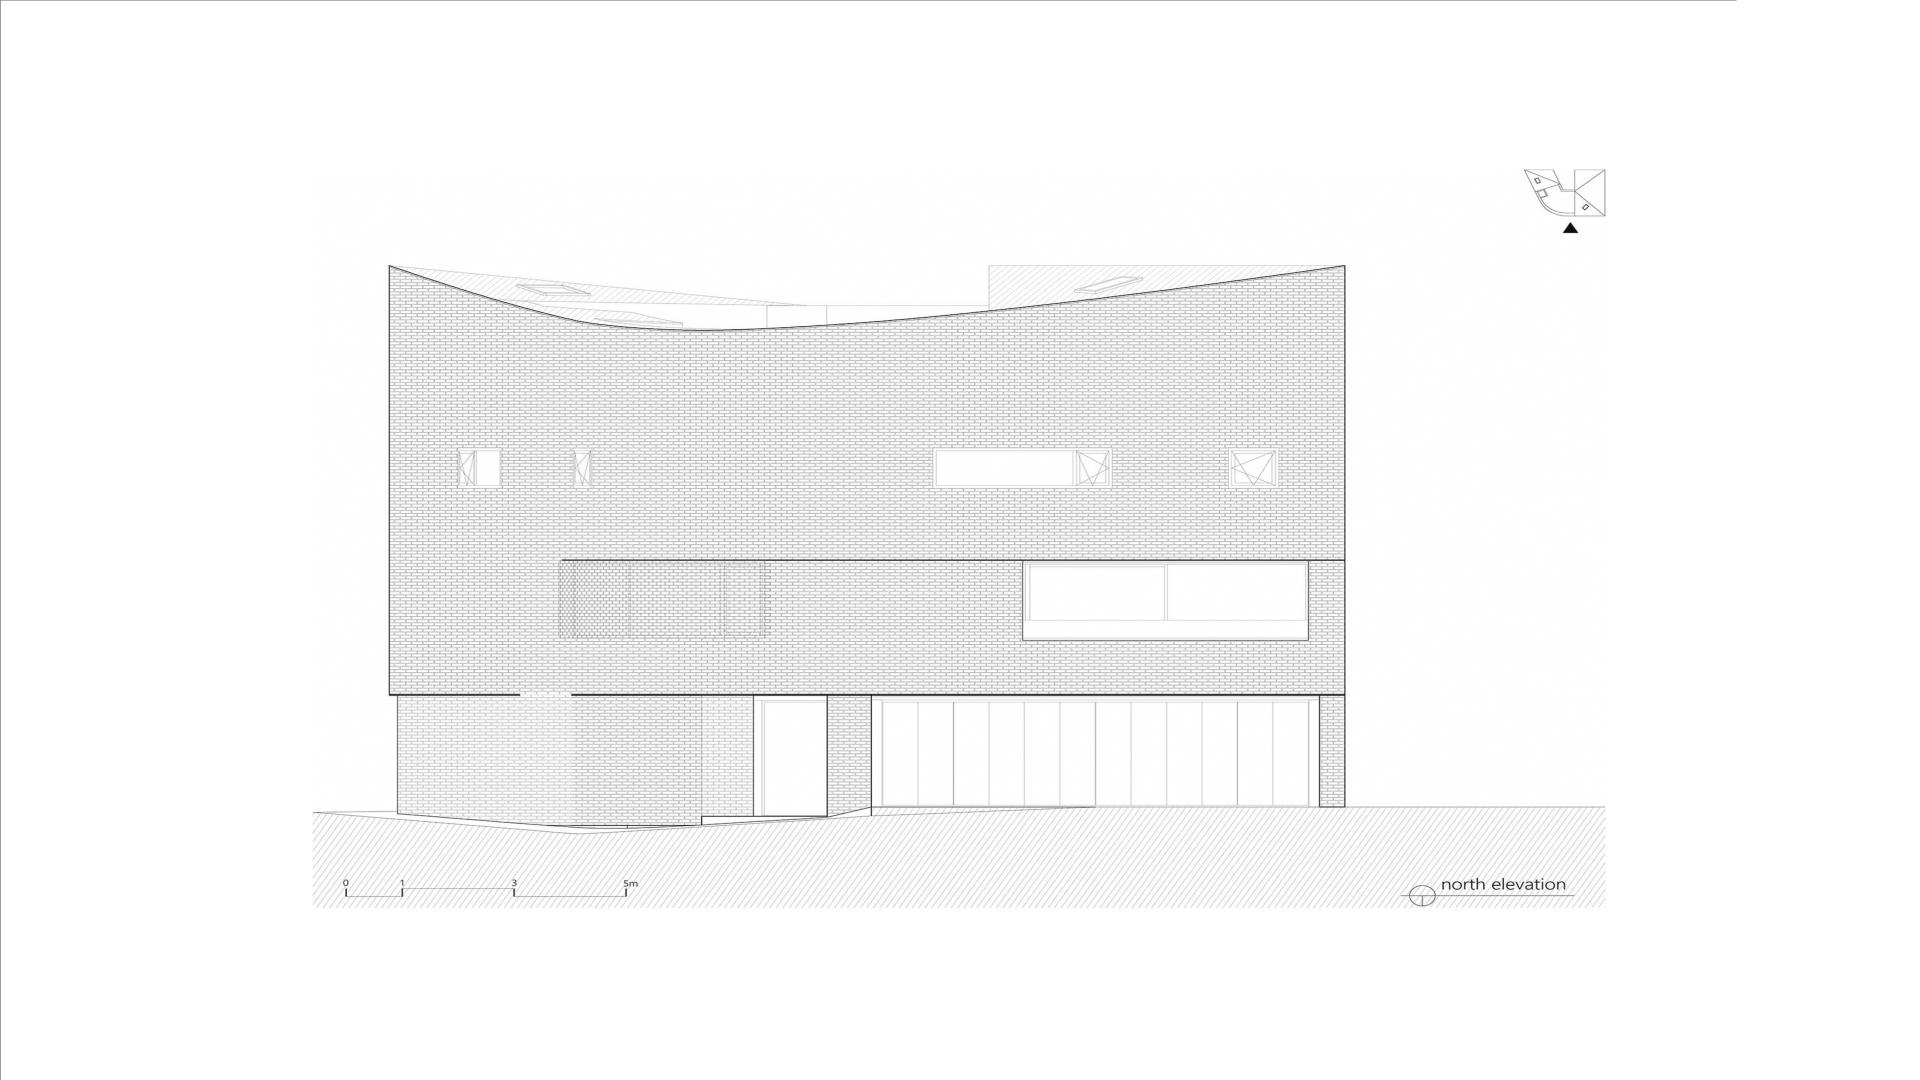door: (753, 695, 827, 816)
wall: (389, 265, 1345, 828)
window: (1022, 560, 1308, 641), (932, 448, 1112, 489), (881, 702, 918, 807), (952, 702, 989, 807), (1271, 703, 1308, 807), (916, 702, 952, 807), (1023, 702, 1059, 807), (1095, 702, 1130, 807), (1166, 703, 1201, 808), (1201, 703, 1237, 808), (1237, 703, 1273, 808), (988, 703, 1023, 807), (1058, 703, 1093, 807), (1130, 703, 1166, 807), (1228, 448, 1279, 488), (458, 448, 501, 488), (1075, 276, 1143, 294), (516, 285, 592, 295), (574, 448, 592, 488)
